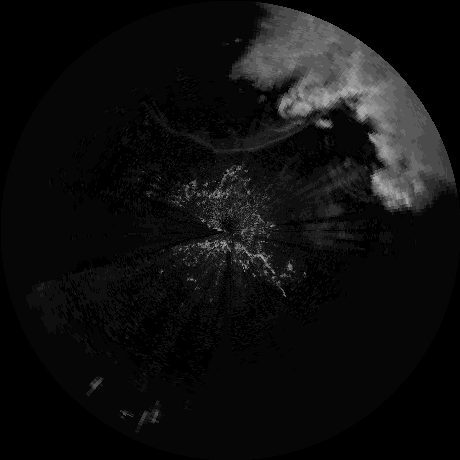frontgust: (191, 117, 320, 153)
